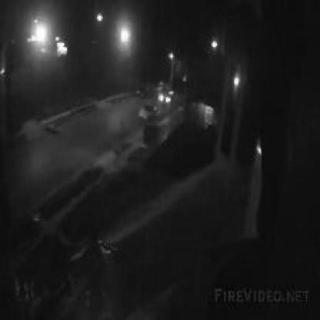other: (23, 16, 77, 67), (111, 19, 131, 42), (151, 87, 173, 105), (203, 36, 220, 54)
